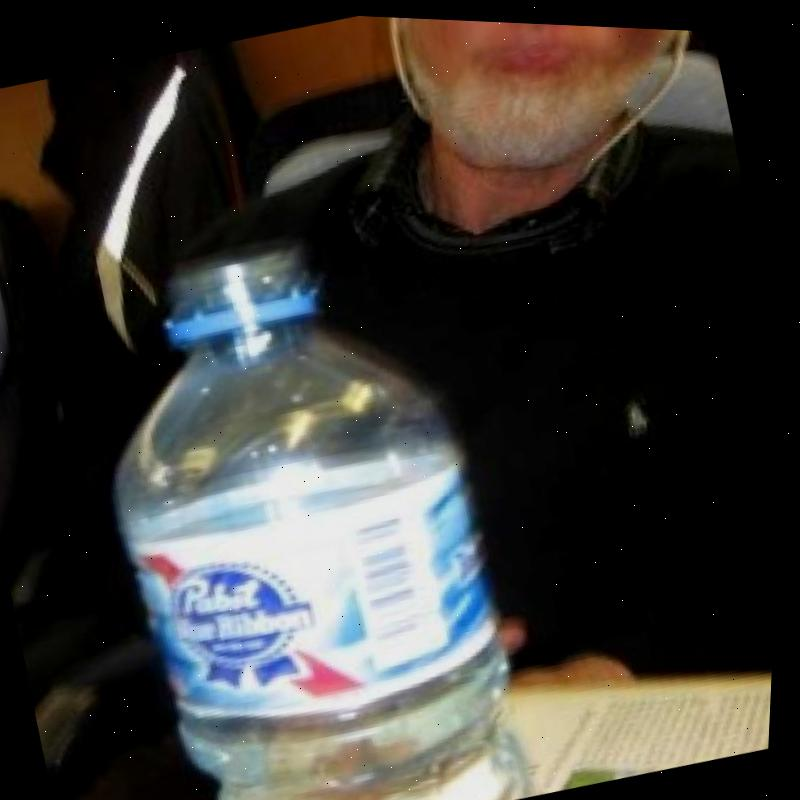botella: (42, 190, 566, 800)
